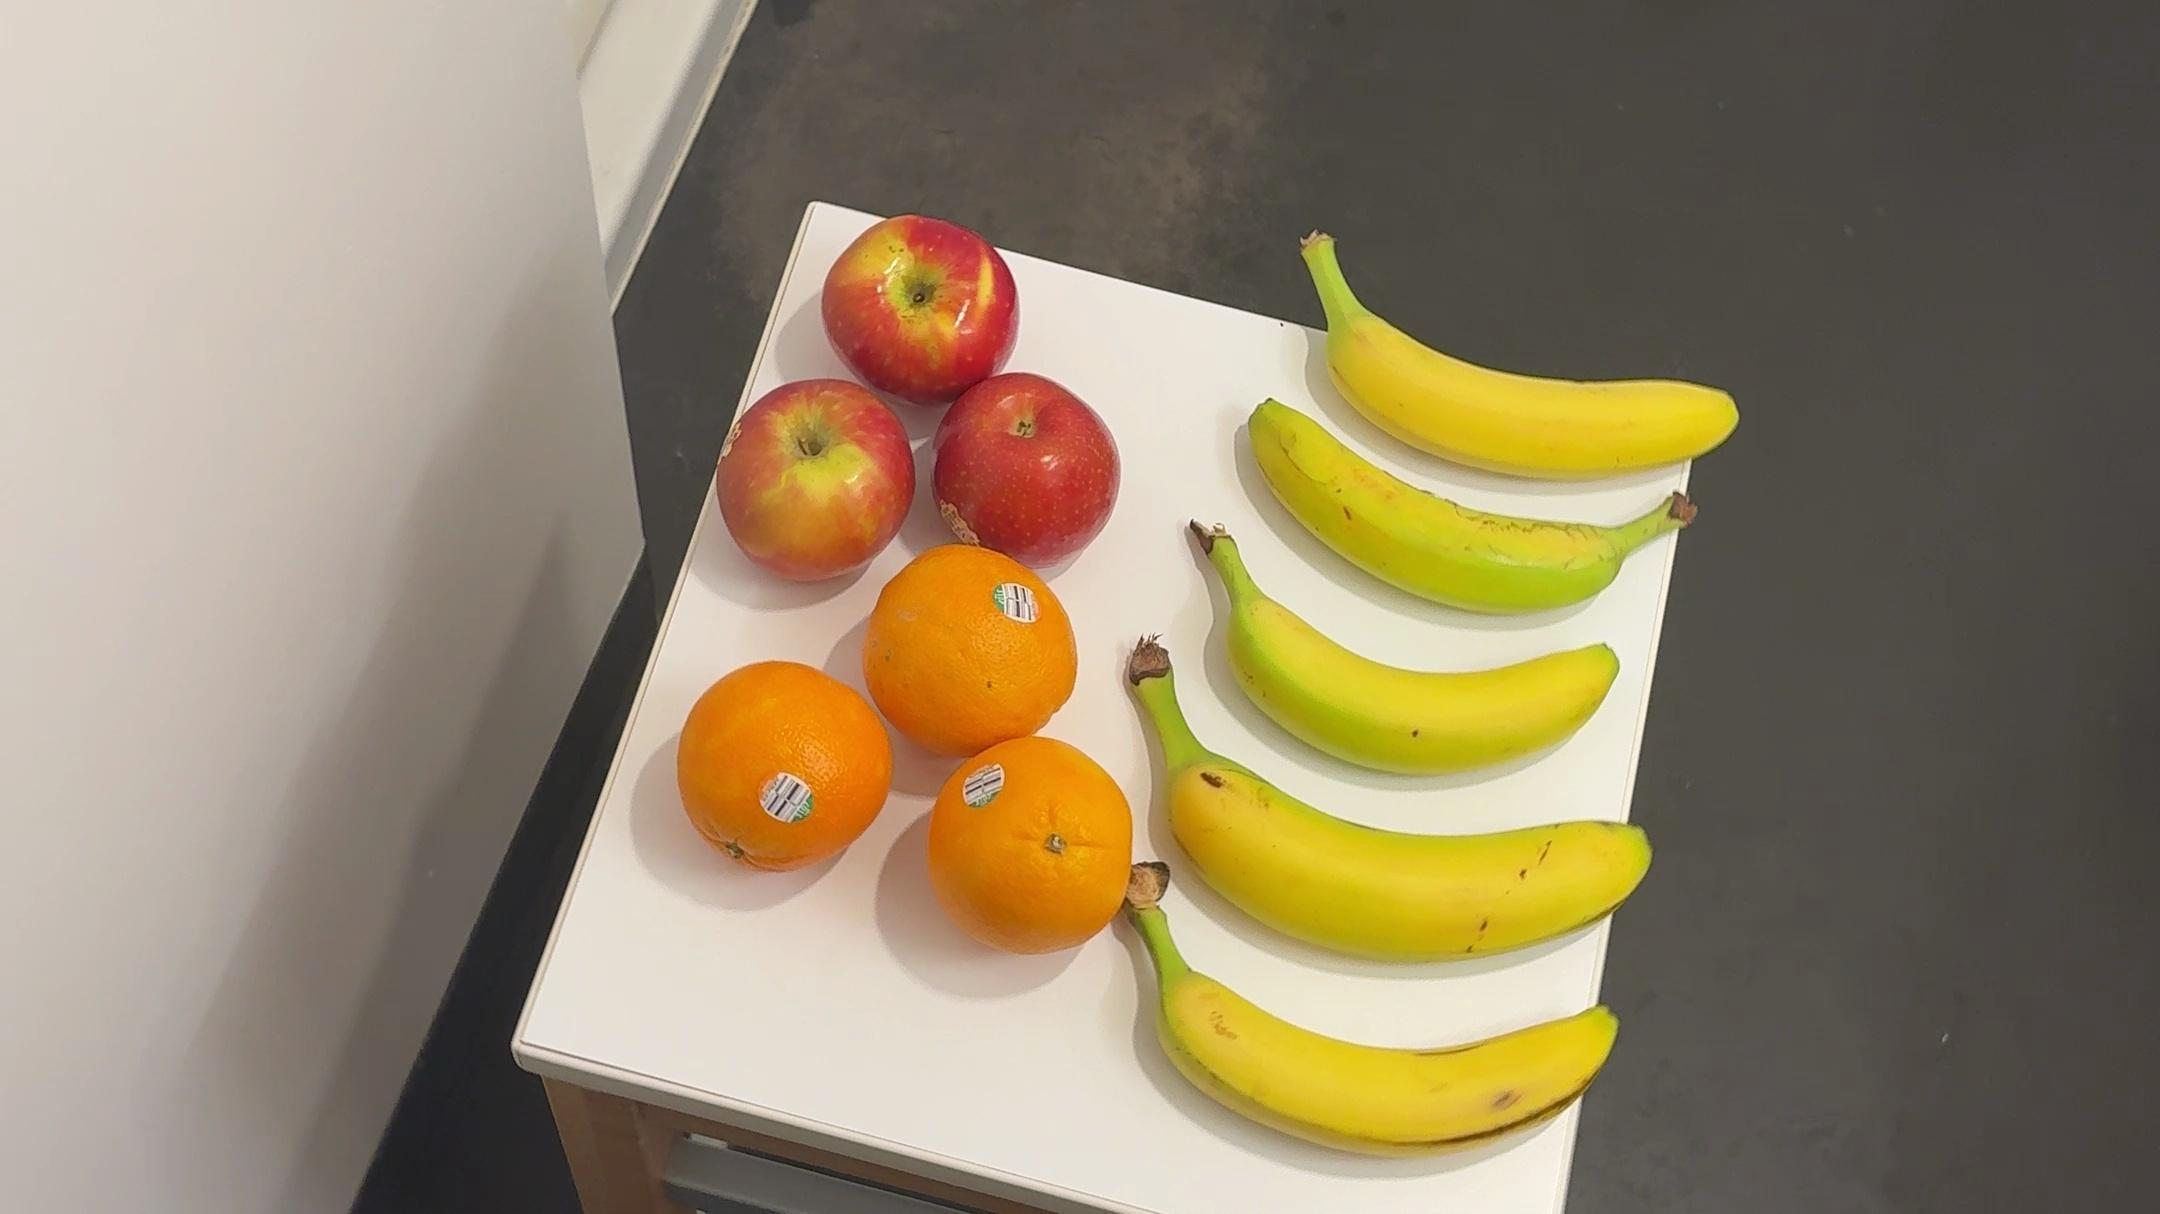apple: (717, 373, 909, 574), (939, 365, 1120, 564), (831, 220, 1006, 384)
banana: (1113, 634, 1666, 942), (1117, 856, 1642, 1169), (1260, 215, 1742, 476), (1173, 505, 1624, 779), (1216, 389, 1705, 620)
orange: (866, 533, 1080, 755), (679, 653, 881, 885), (933, 735, 1127, 962)
